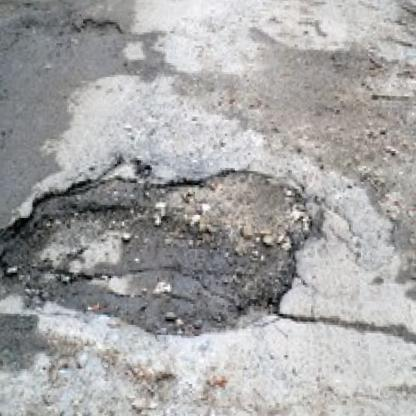pothole: (0, 153, 314, 340), (79, 16, 120, 36)
